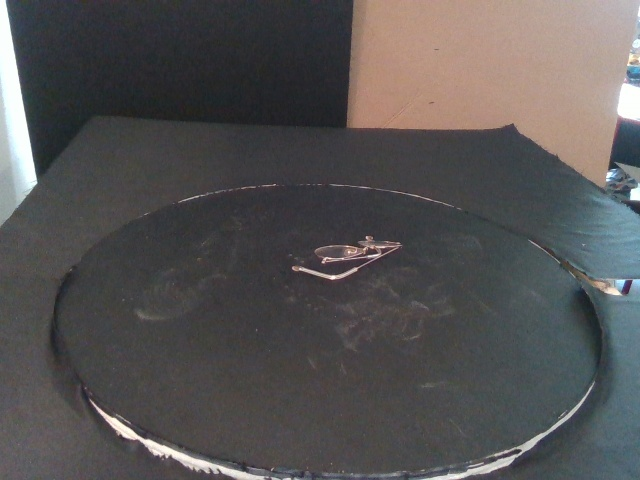glasses: (291, 235, 402, 281)
